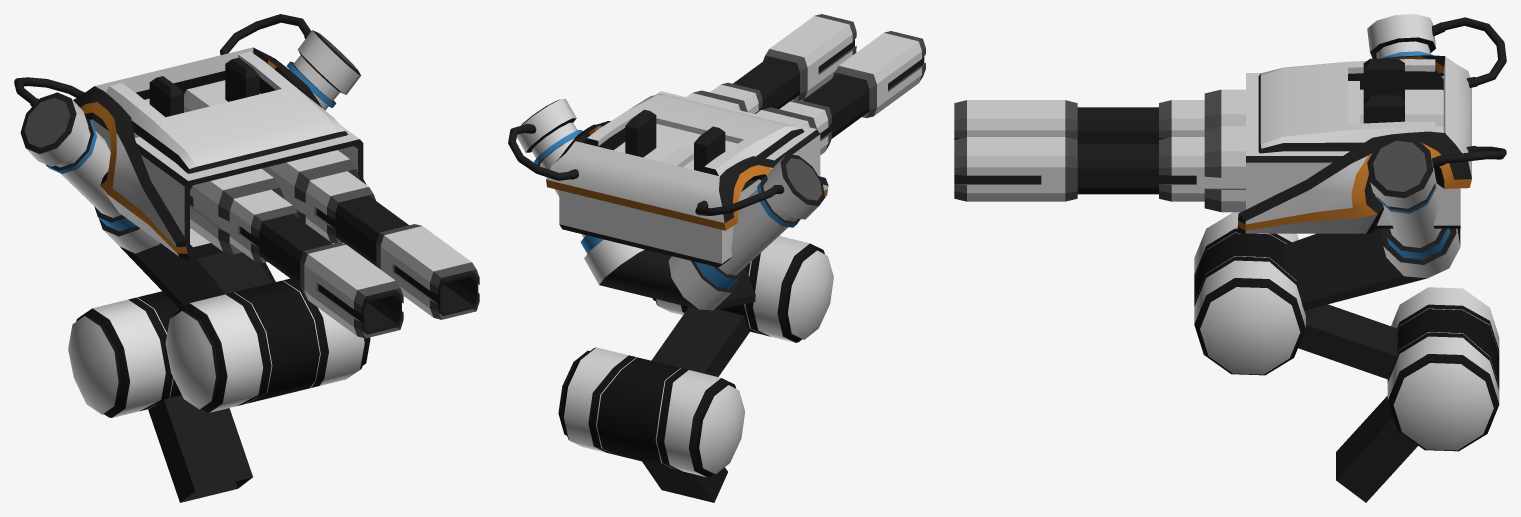
Rendered from tower_cannon_upgrade1_asset.fbx.
3 views of the same model, side by side, from view 1: azimuth 30°, elevation 25°; view 2: azimuth 150°, elevation 25°; view 3: azimuth 270°, elevation 25° (orthographic). The views are drawn at different scales.
Parts seen in each view (by area): view 1: cannon2_top, cannon2_bottom, cannon2_gun_head, cannon2_mid_gun, cannon2_draw_back; view 2: cannon2_top, cannon2_bottom, cannon2_gun_head, cannon2_draw_back, cannon2_mid_gun; view 3: cannon2_top, cannon2_bottom, cannon2_gun_head, cannon2_mid_gun, cannon2_draw_back.
Part boxes in pixels (bbox=[...]): cannon2_top: bbox=[14, 14, 478, 412]; cannon2_bottom: bbox=[68, 291, 252, 502]; cannon2_gun_head: bbox=[300, 224, 479, 338]; cannon2_mid_gun: bbox=[193, 171, 375, 262]; cannon2_draw_back: bbox=[149, 57, 259, 117]; cannon2_top: bbox=[508, 39, 924, 342]; cannon2_bottom: bbox=[558, 307, 751, 502]; cannon2_gun_head: bbox=[763, 14, 925, 118]; cannon2_draw_back: bbox=[625, 109, 725, 174]; cannon2_mid_gun: bbox=[710, 82, 831, 154]; cannon2_top: bbox=[954, 14, 1506, 375]; cannon2_bottom: bbox=[1298, 287, 1499, 502]; cannon2_gun_head: bbox=[954, 100, 1077, 201]; cannon2_mid_gun: bbox=[1159, 100, 1245, 201]; cannon2_draw_back: bbox=[1363, 58, 1404, 123].
Bounding box in the file's own units: 43.14 × 52.25 × 63.16.
